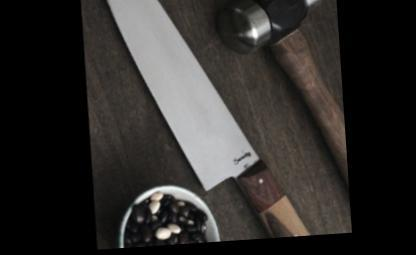knife: (87, 0, 265, 200)
